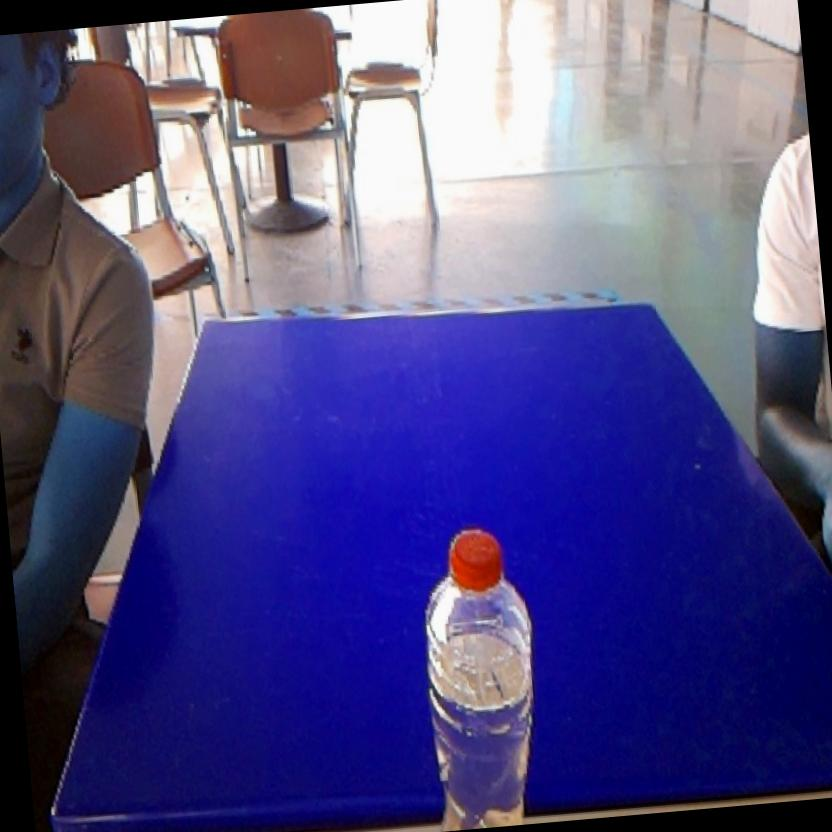no_label: (402, 512, 556, 826)
